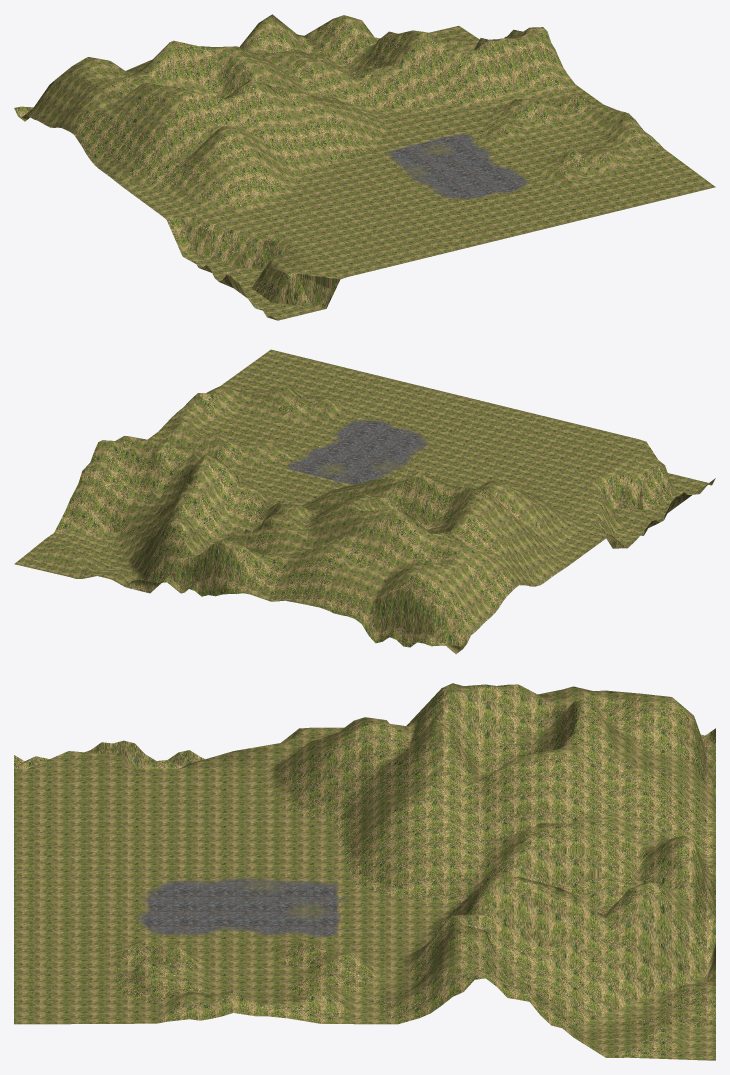
The picture shows the model from 3 angles, top to bottom: view 1: azimuth 30°, elevation 25°; view 2: azimuth 150°, elevation 25°; view 3: azimuth 270°, elevation 25°; orthographic projection. The views are drawn at different scales.
Visible parts, largest first — view 1: Mesh; view 2: Mesh; view 3: Mesh.
Part boxes in pixels (box(x1,y1,x2,y2)): Mesh: box(14, 14, 715, 320); Mesh: box(14, 349, 715, 654); Mesh: box(14, 683, 715, 1060).
Size of the model in its own units: 600 by 131 by 600.
Materials: 1 (1 with a texture image).
